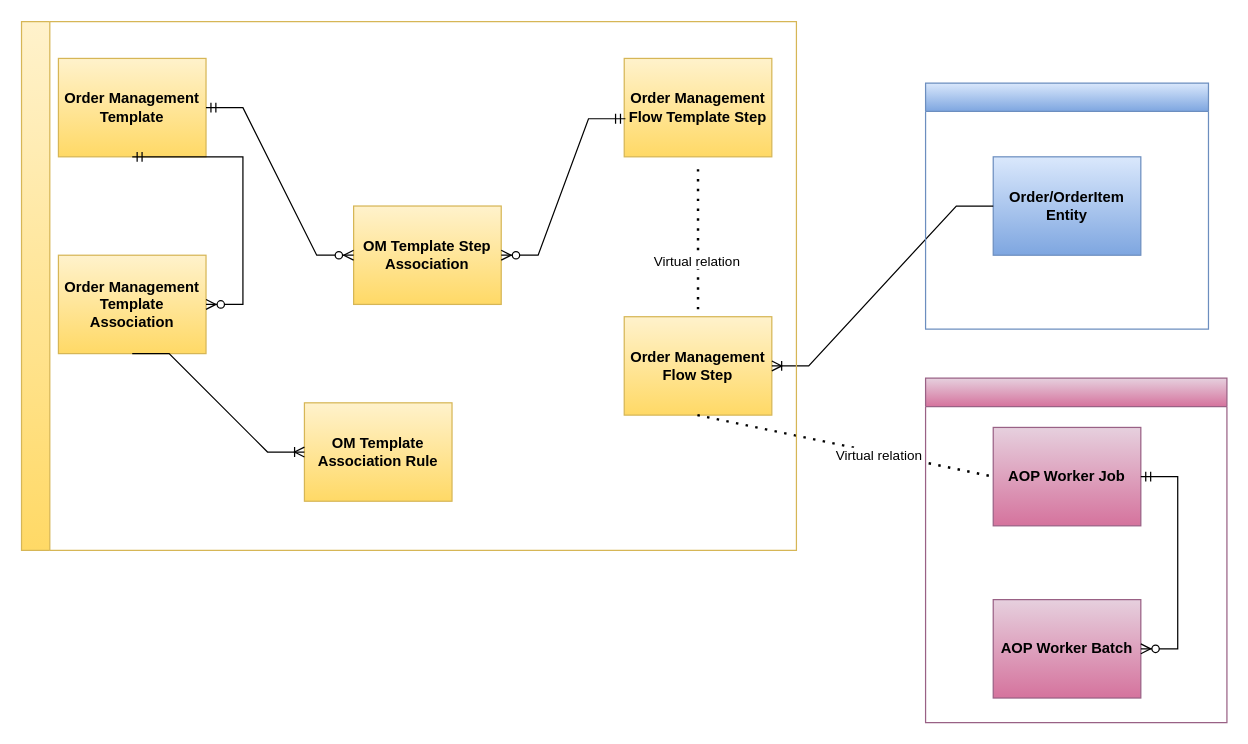
This 1248x744 diagram has some shape labels left out. The shapes that lost their labels are listed below. From the top down, each one's box as (x1, y1, x2, y2) in pixels, then its label:
(924, 82, 1208, 329): SF Standard Or CPQ Managed Objects
(20, 20, 796, 550): AOP Package Managed Objects
(924, 377, 1227, 723): AOP Worker DB Tables (Optionally used)
